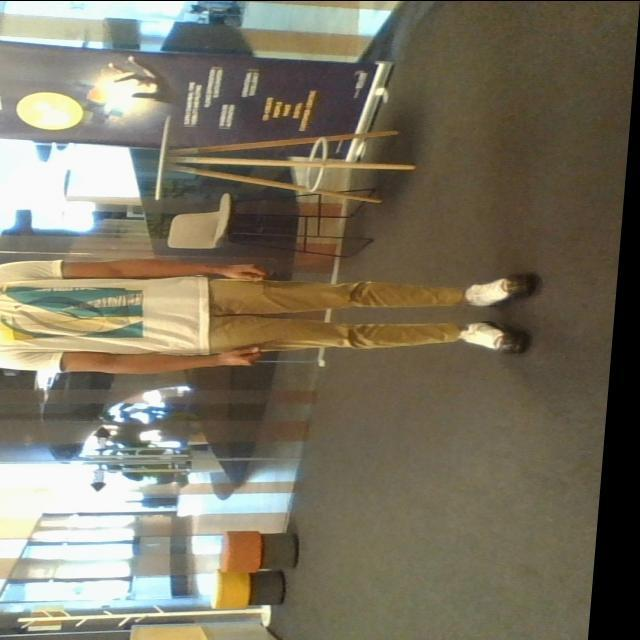shoes: (461, 268, 538, 310), (456, 321, 532, 362)
